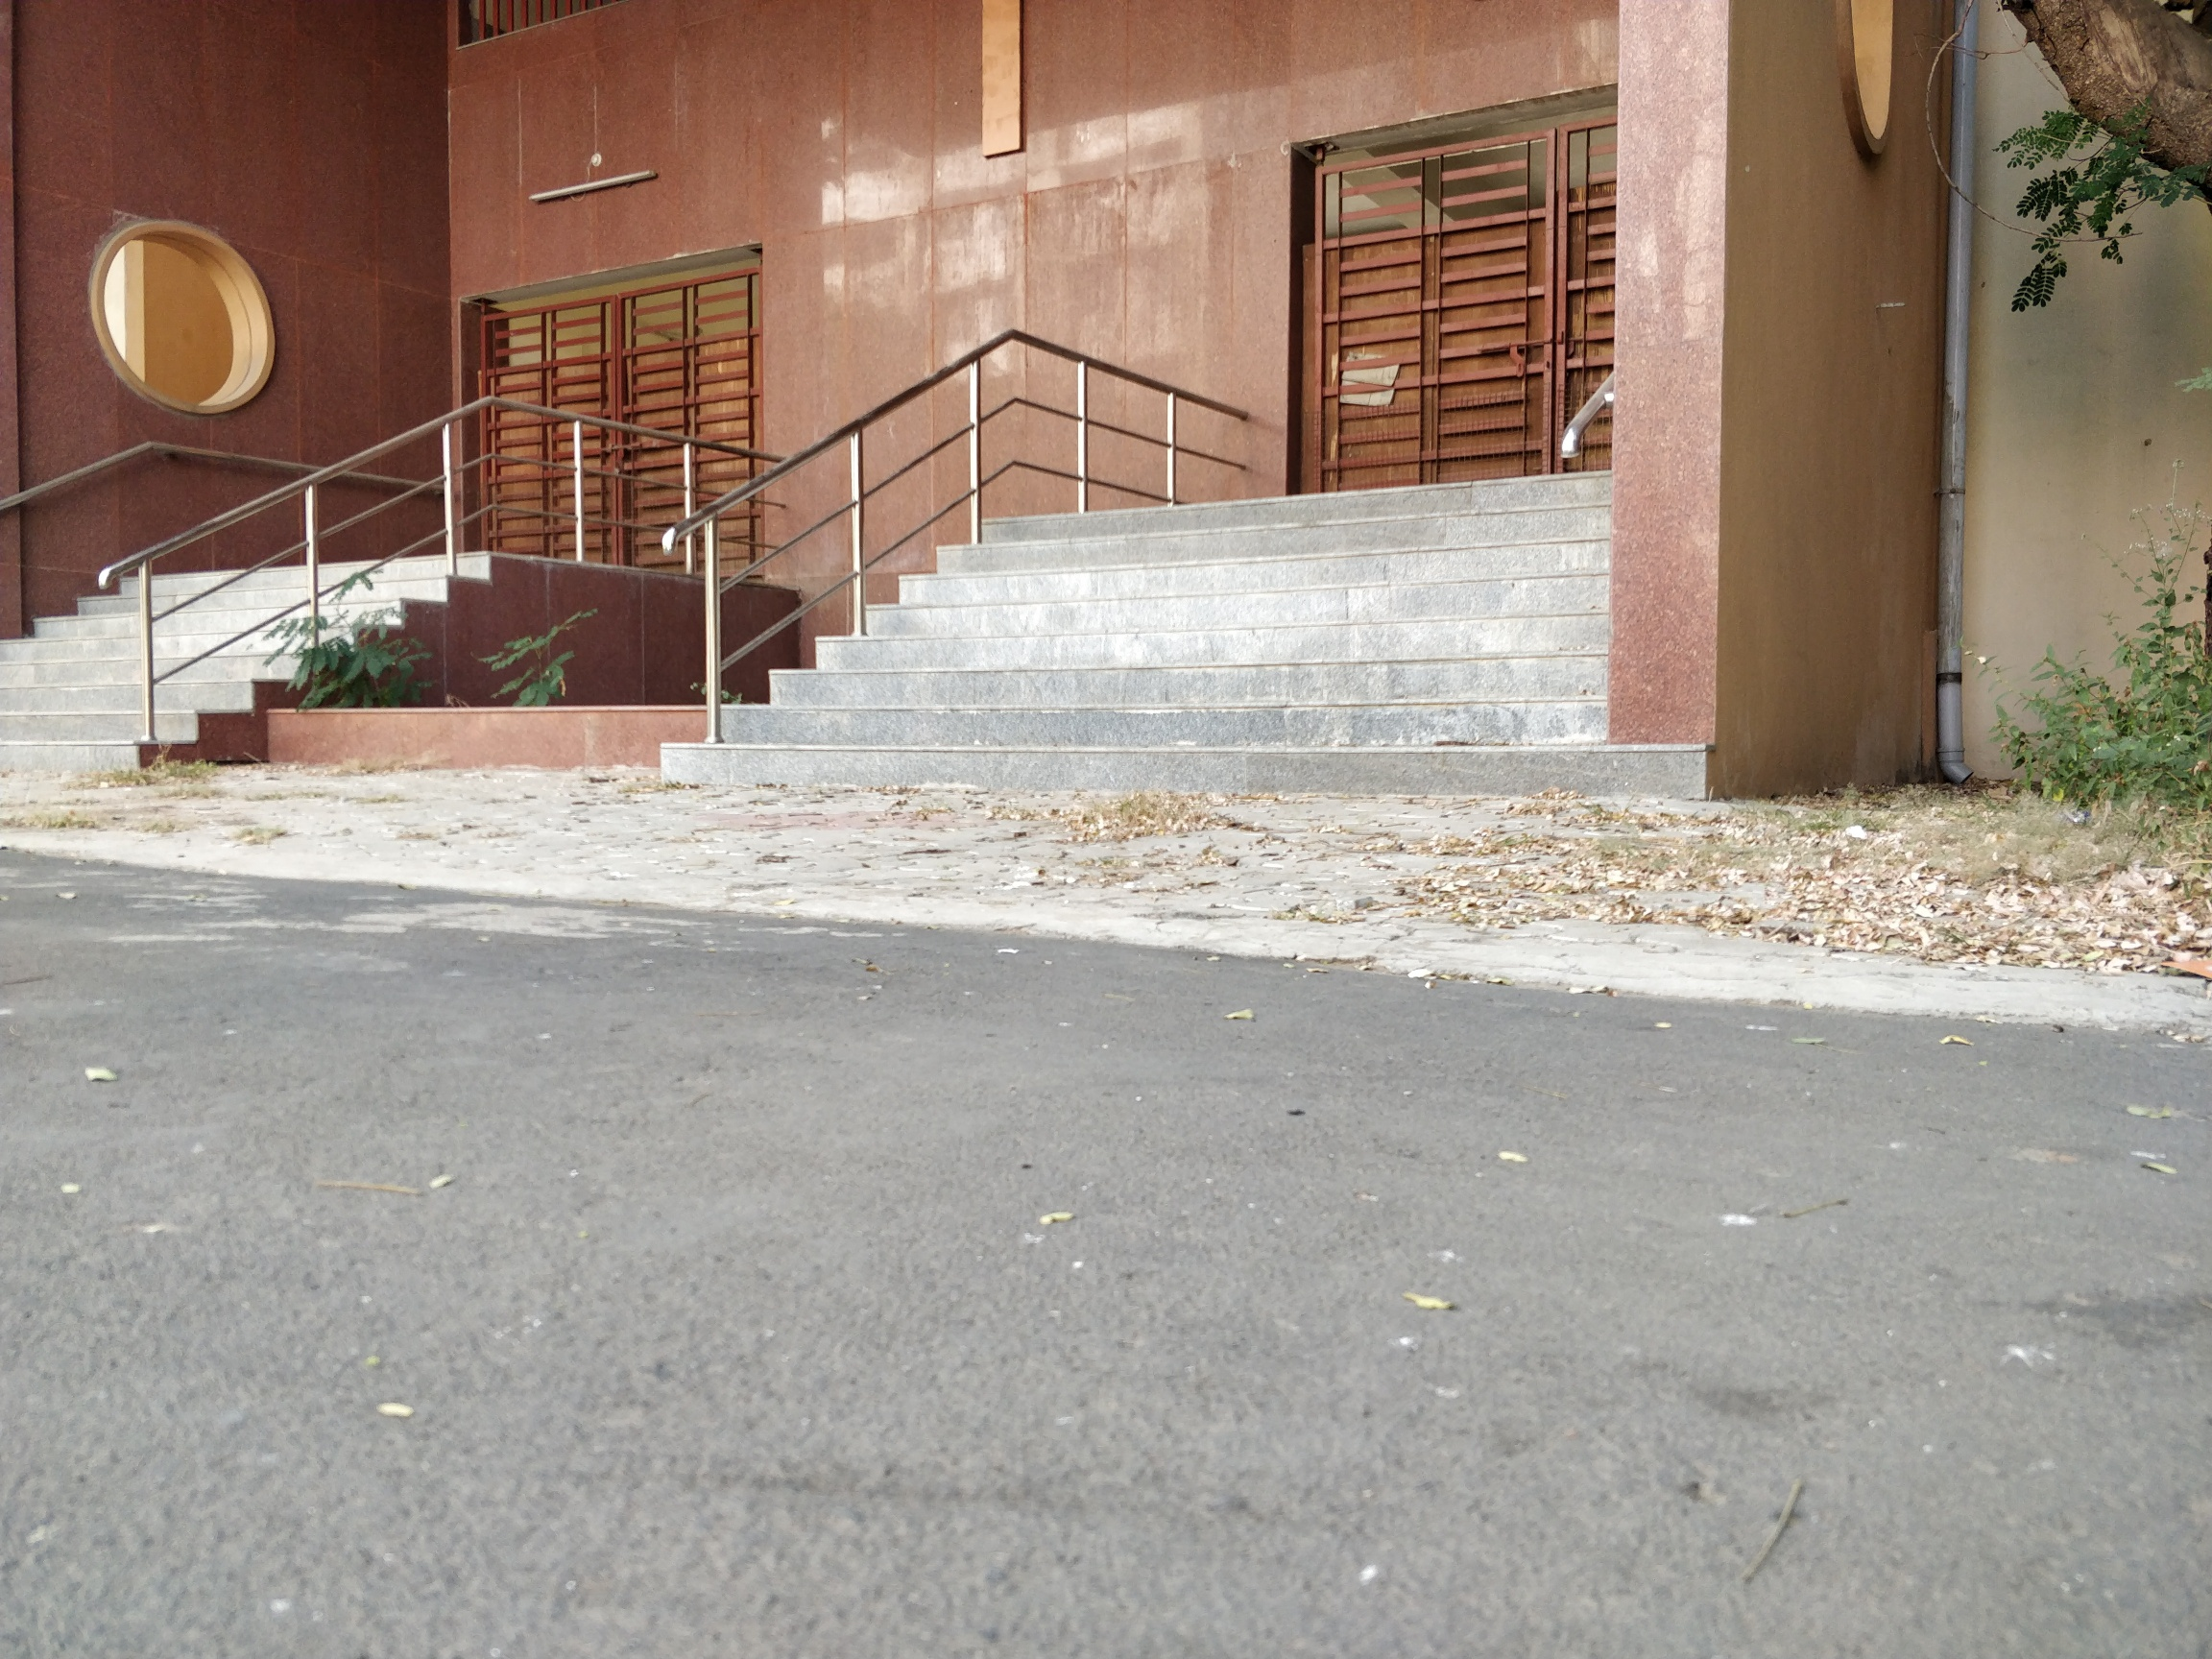stairs_up: (688, 460, 1609, 833)
